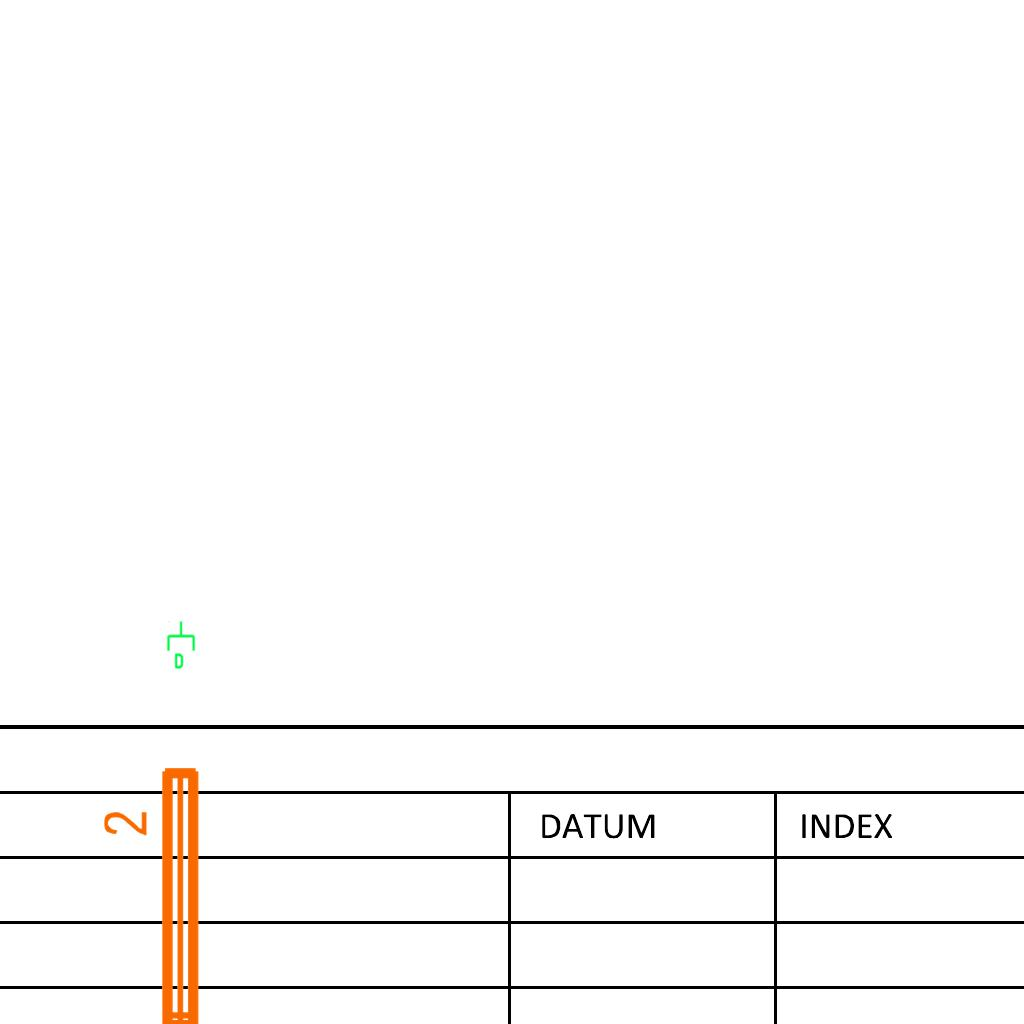Ambulanz_Pendelleuchte_LED: (99, 759, 211, 1024)
Datenanschluss_einfach: (165, 620, 199, 670)
